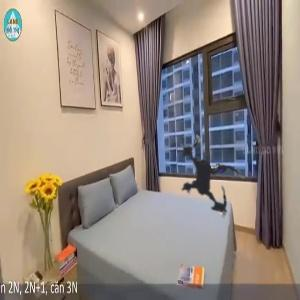drone: (130, 102, 283, 255)
